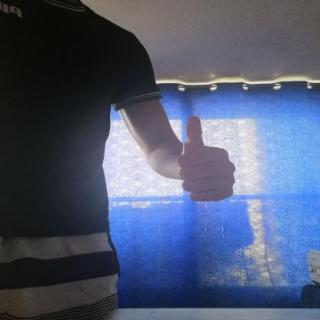ALIF: (159, 110, 254, 210)
